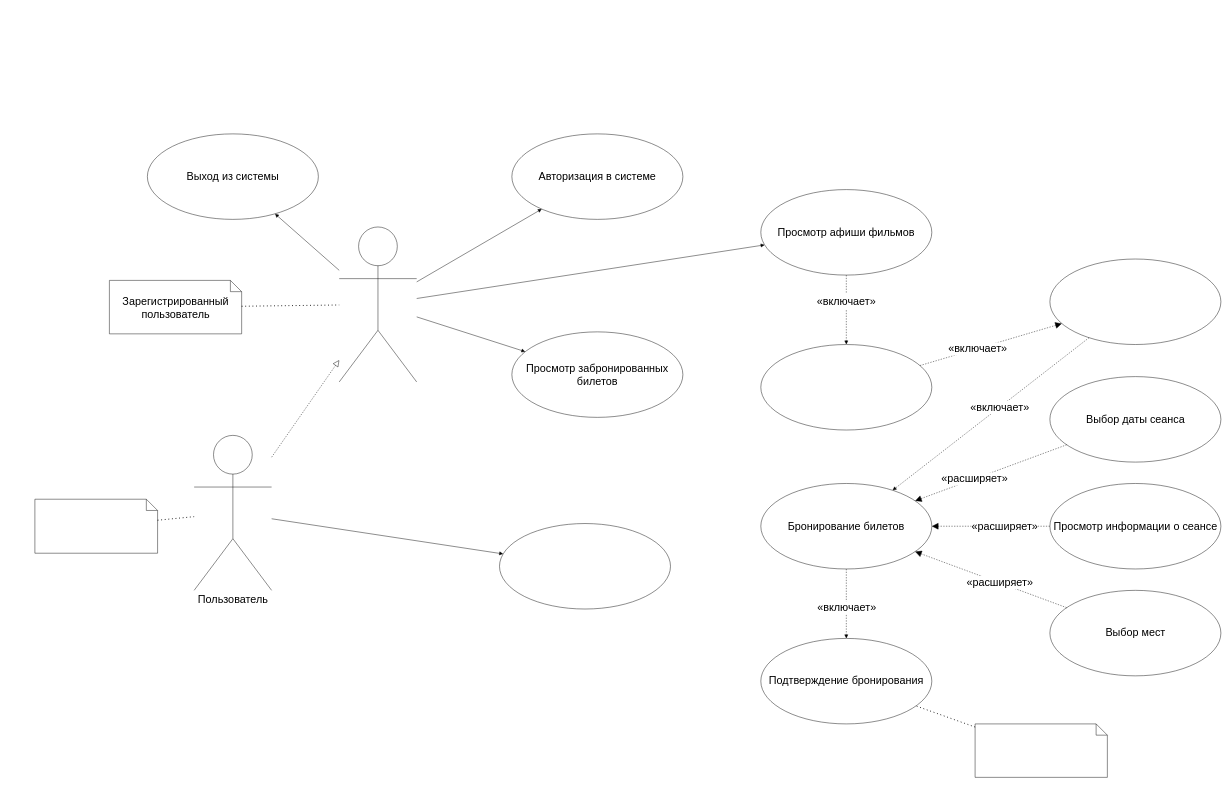
This 1229x785 diagram has some shape labels left out. The shapes that lost their labels are listed below. From the top down, each one's centre as x and y in pixels, then its label:
At point 378,304: "Зритель".
At point 1135,302: "Просмотр подробного описания выбранного фильма".
At point 846,387: "Выбор фильма".
At point 96,526: "Новый пользователь".
At point 584,566: "Регистрация".
At point 1041,750: "Уведомить об успешном бронировании".
